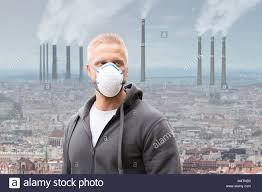mask: (82, 34, 138, 108)
